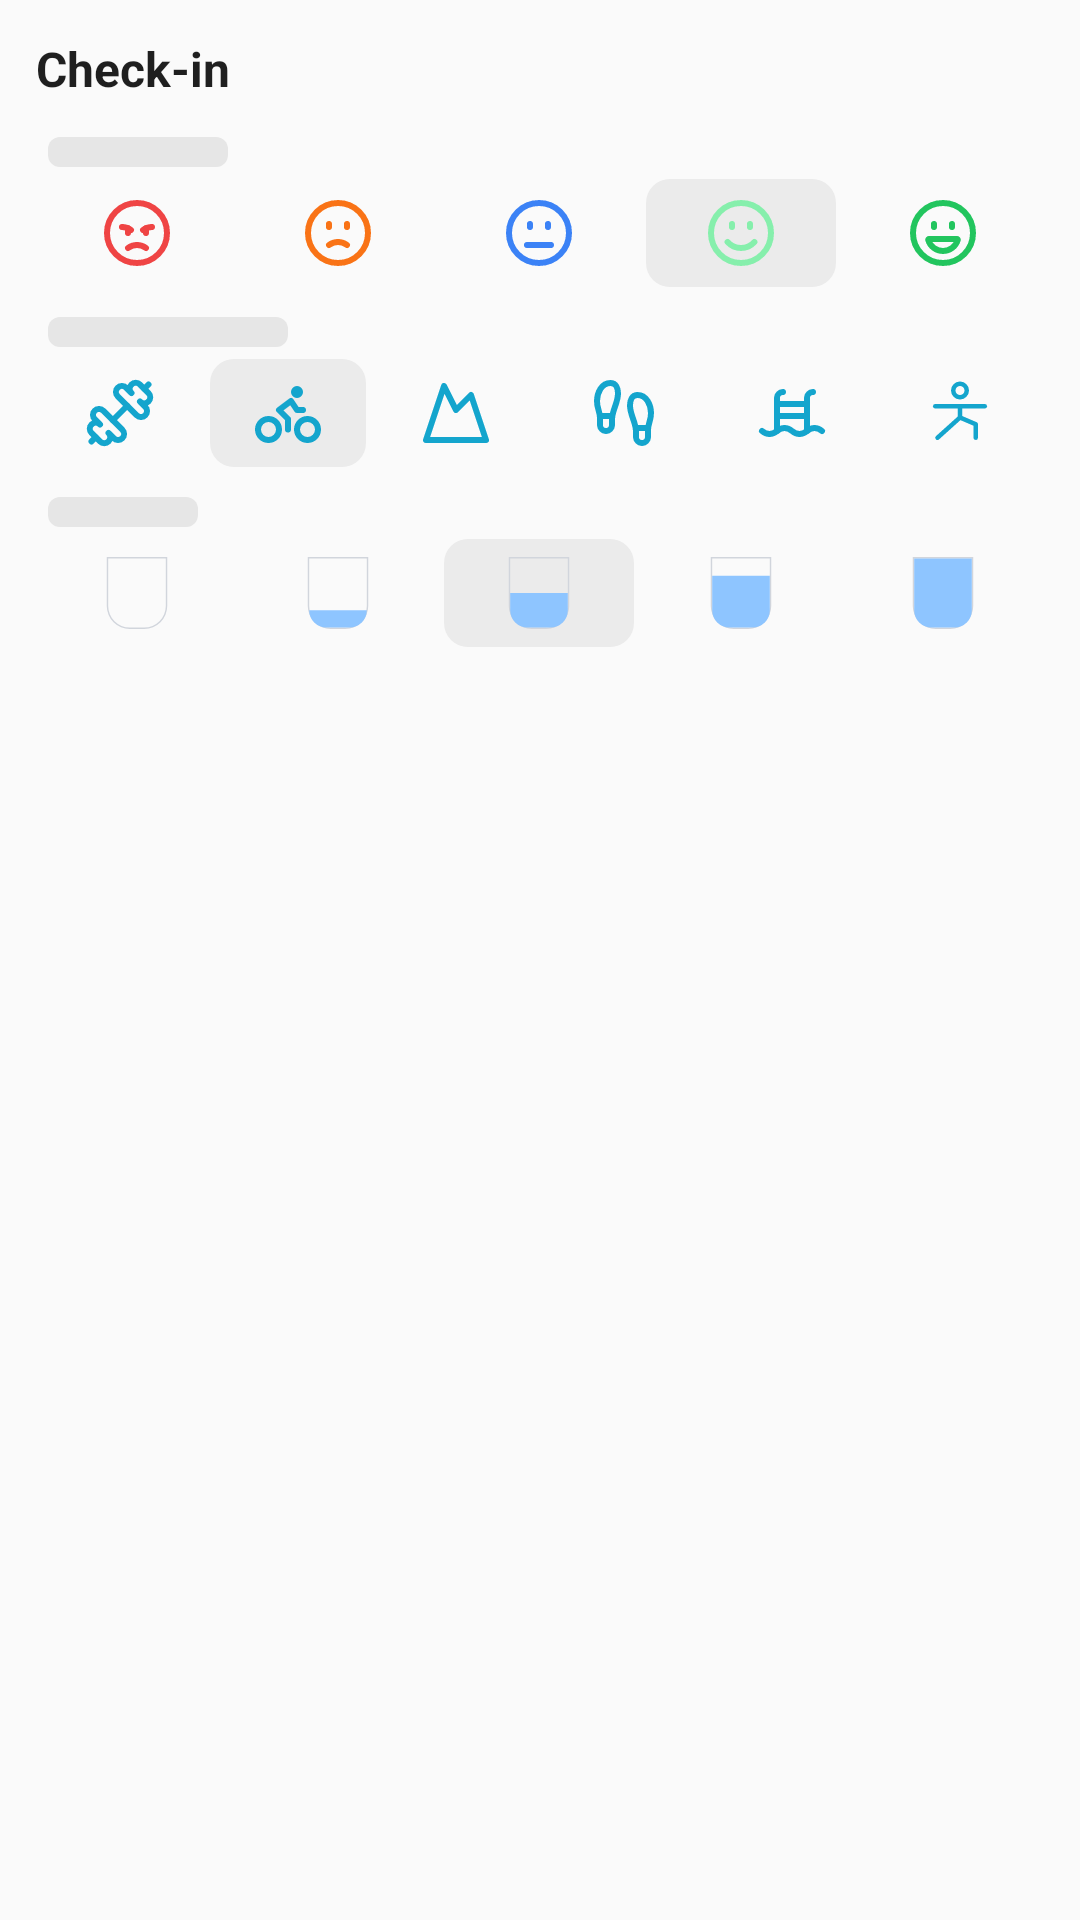

Point at icon controls on the screen. Image size 1080x1920, points as [x,y].
widget checkin sport bike: [288,413]
widget checkin sport dumbbell: [120,413]
widget checkin sport footprints: [624,413]
widget checkin sport mountain: [456,413]
widget checkin sport yoga: [960,410]
widget checkin water: [539,593], [137,593], [338,593], [741,593], [943,593]
